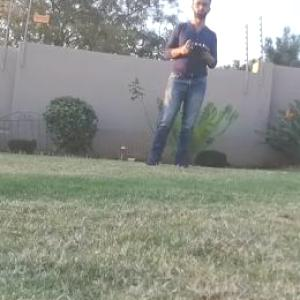follow: (138, 0, 222, 173)
